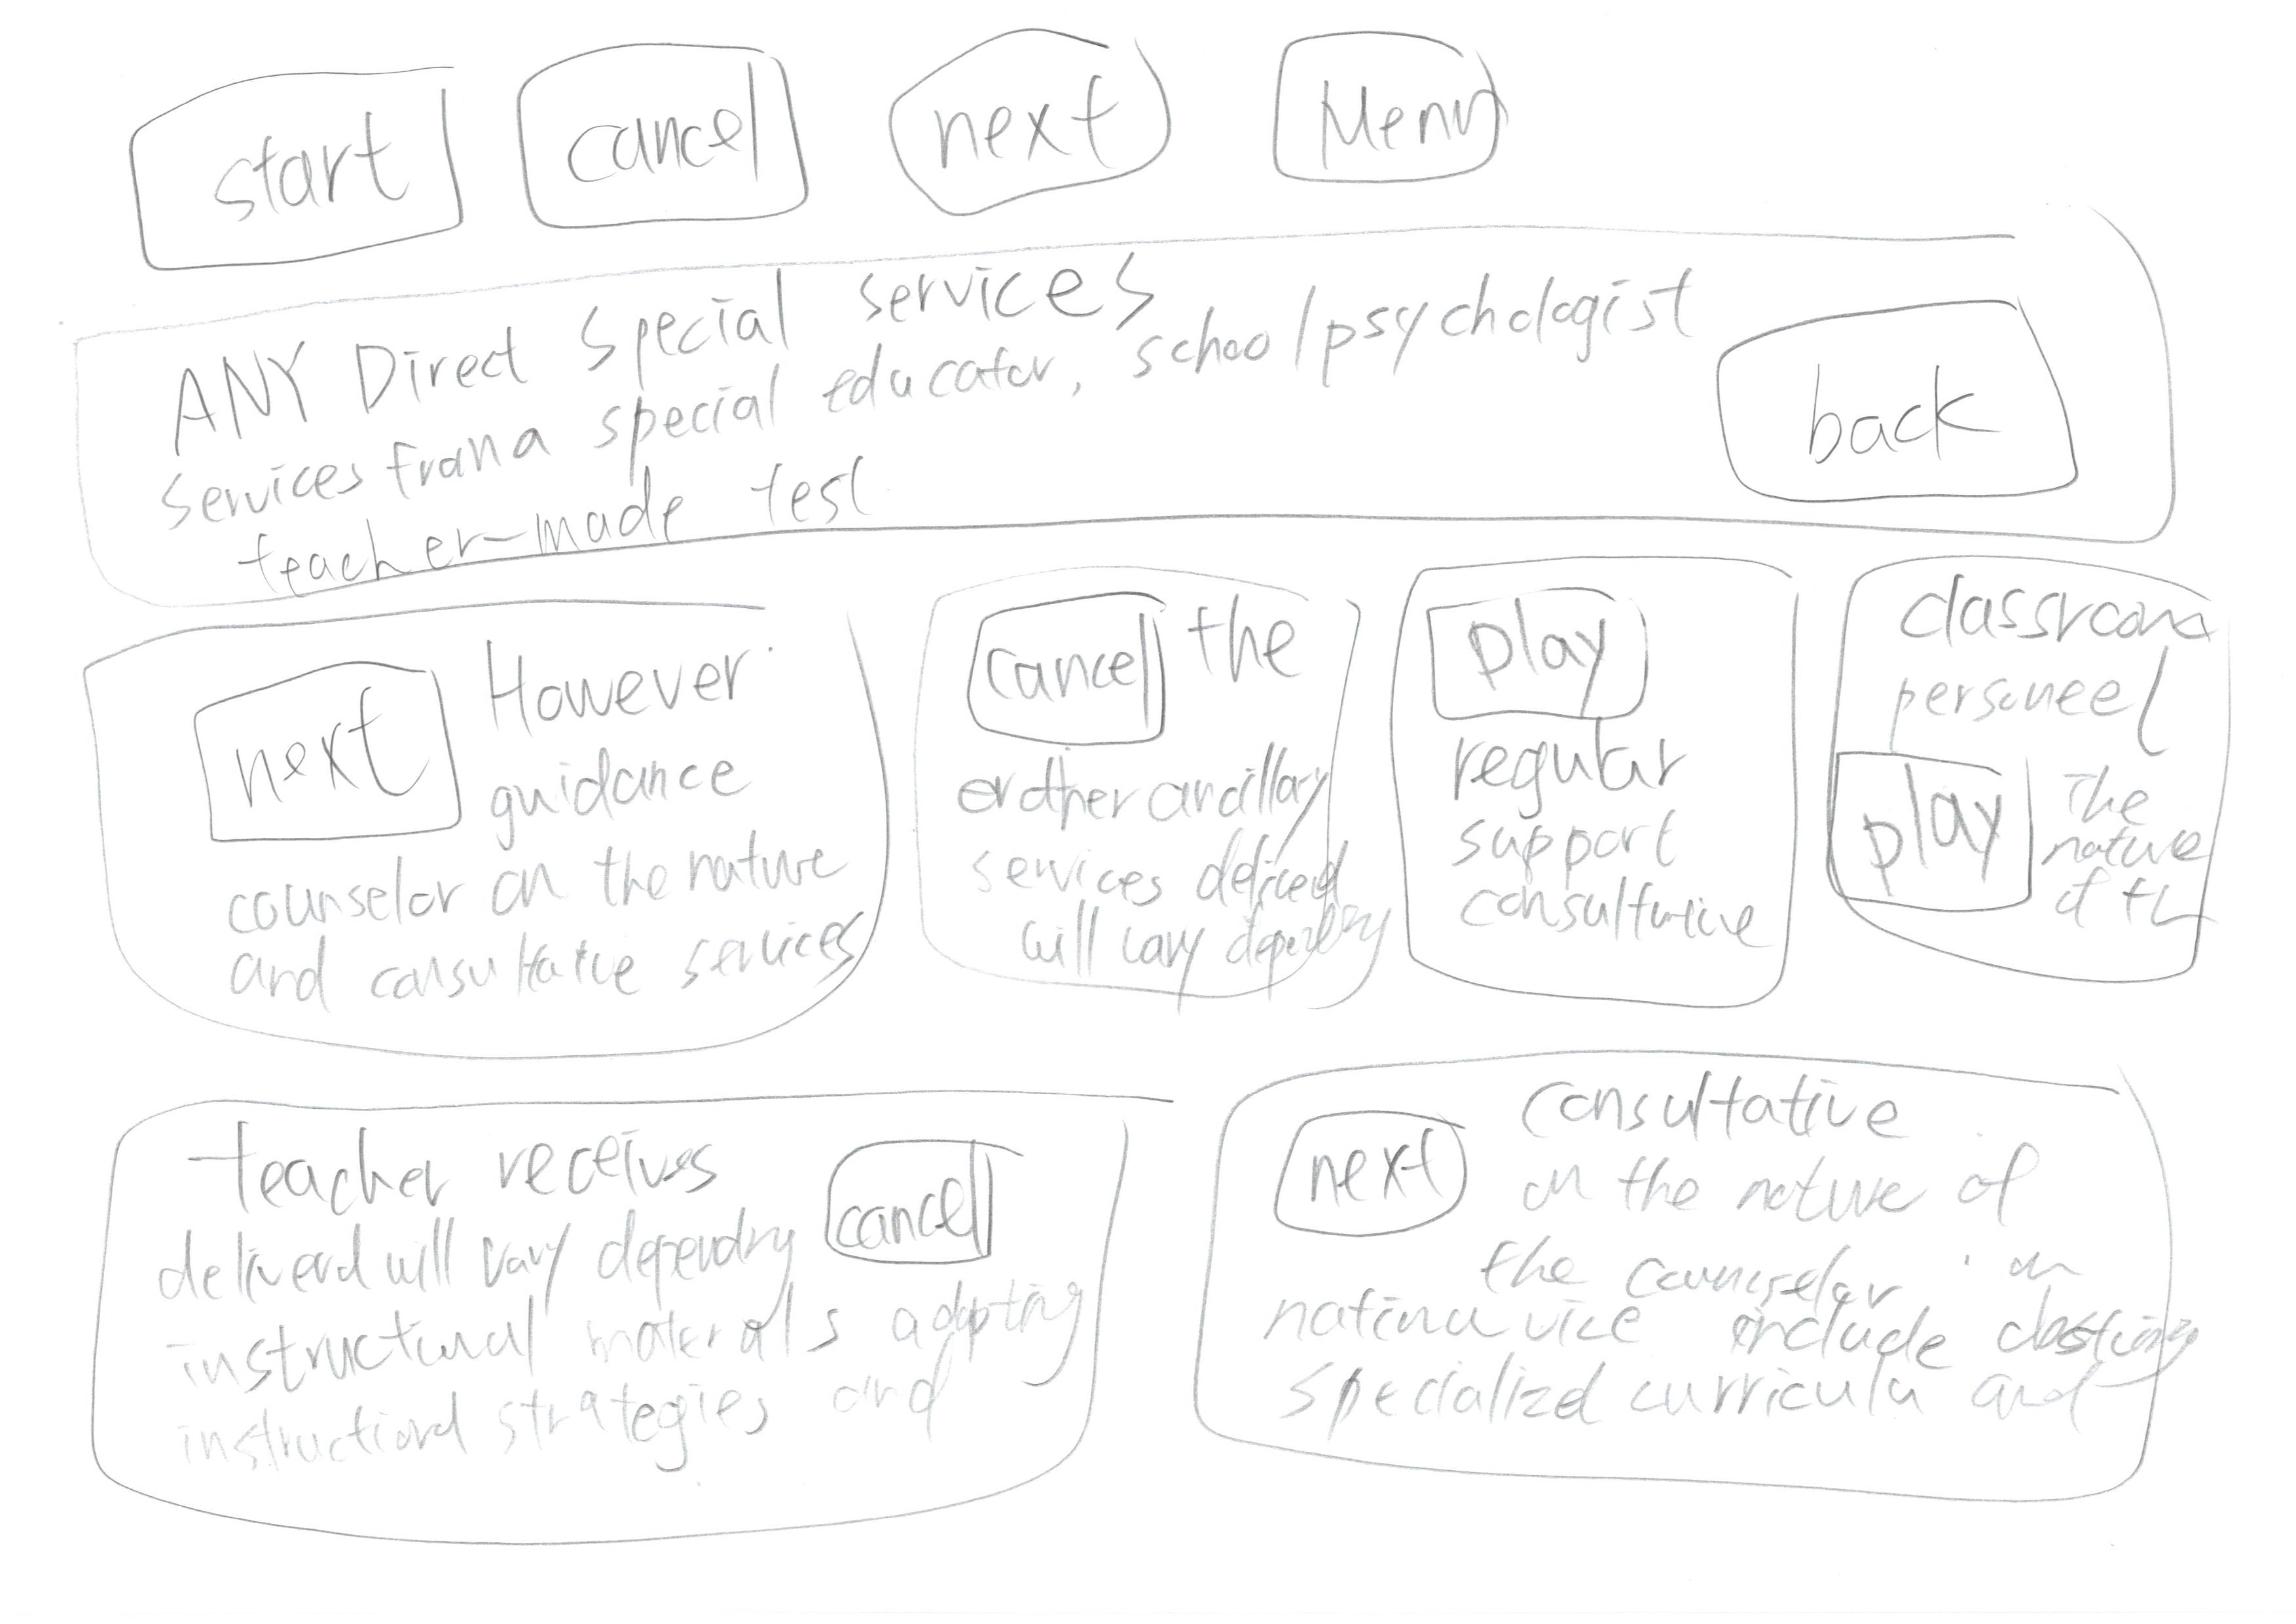back: (1693, 288, 2141, 515)
cancel: (496, 35, 826, 237), (948, 569, 1183, 759), (802, 1127, 1050, 1272)
double: (0, 1058, 1213, 1548), (1153, 1048, 2296, 1557)
menu: (1252, 7, 1554, 202)
next: (856, 7, 1201, 230), (163, 654, 492, 866), (1257, 1083, 1498, 1246)
play: (1806, 729, 2039, 954), (1401, 573, 1672, 731)
quadruple: (42, 562, 911, 1076), (921, 531, 1420, 1033), (1345, 534, 1844, 1037), (1797, 545, 2296, 1048)
row: (4, 489, 2296, 1083), (7, 1037, 2296, 1562), (35, 190, 2296, 591), (42, 0, 2296, 255)
single: (93, 199, 2273, 649)
small-title: (213, 250, 1132, 413), (1883, 569, 2173, 736), (200, 1123, 747, 1207), (1522, 1069, 1909, 1142), (471, 634, 772, 729), (1459, 724, 1747, 816), (1201, 594, 1331, 733)
start: (88, 40, 482, 271)
text: (1508, 1158, 2155, 1455), (1269, 1246, 2168, 1450), (125, 1222, 767, 1489), (155, 420, 939, 550), (963, 759, 1364, 986), (498, 759, 849, 990), (199, 875, 840, 997), (1166, 267, 1702, 362), (747, 1283, 1067, 1441), (1463, 838, 1762, 958), (2060, 765, 2191, 951)
